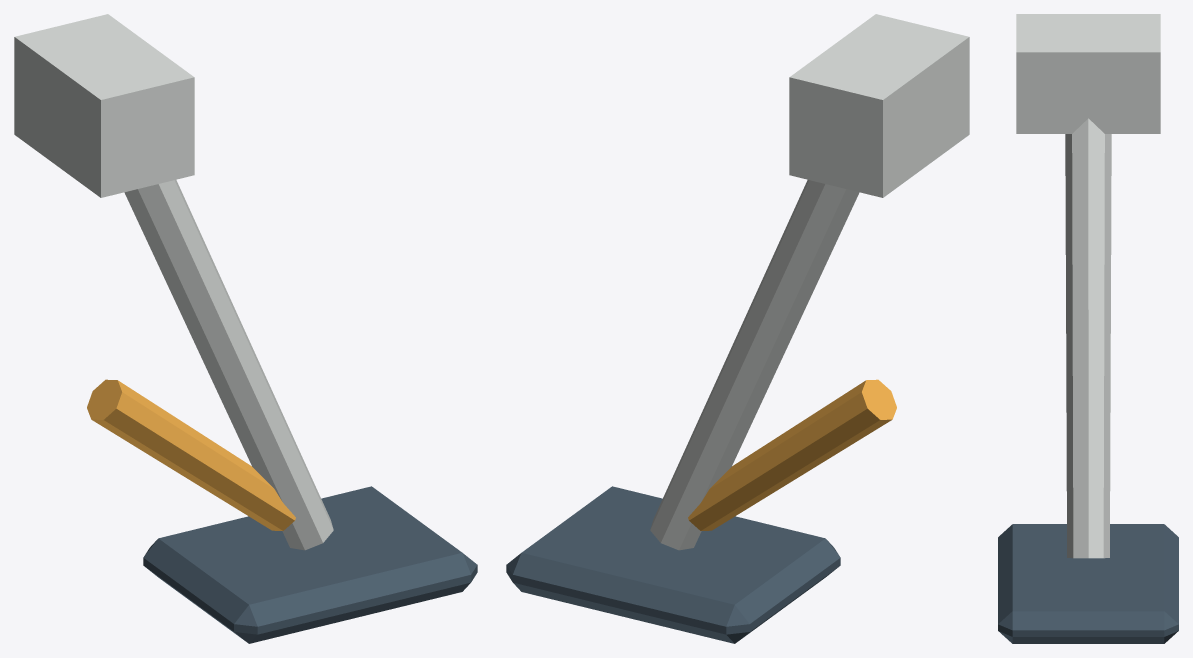
3 renders of one model, left to right at view 1: azimuth 30°, elevation 25°; view 2: azimuth 150°, elevation 25°; view 3: azimuth 270°, elevation 25°, orthographic. The views are drawn at different scales.
Parts seen in each view (by area): view 1: RE-015 Folding landing strut batched; view 2: RE-015 Folding landing strut batched; view 3: RE-015 Folding landing strut batched.
Part boxes in pixels (x1=…): RE-015 Folding landing strut batched: x1=14, y1=14, x2=477, y2=643; RE-015 Folding landing strut batched: x1=506, y1=14, x2=969, y2=643; RE-015 Folding landing strut batched: x1=998, y1=14, x2=1178, y2=643.
Size of the model in its own units: 1 by 1.48 by 0.5.
